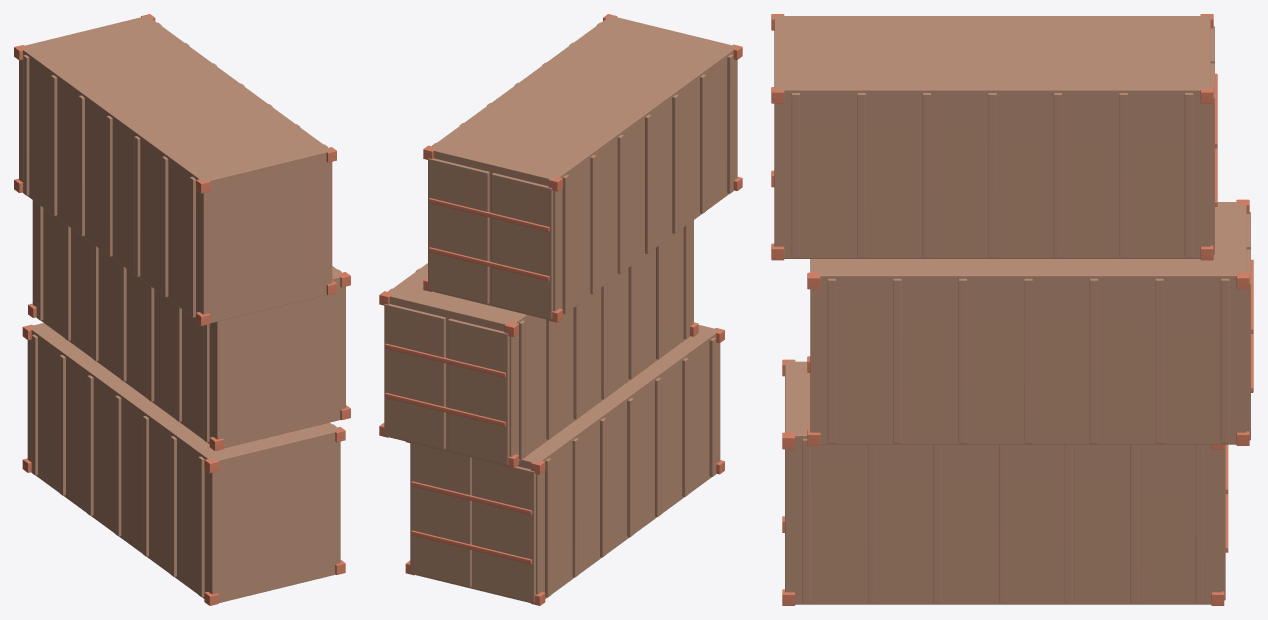
The model's file is container_stack3.glb.
3 renders of one model, left to right at view 1: azimuth 30°, elevation 25°; view 2: azimuth 150°, elevation 25°; view 3: azimuth 270°, elevation 25°, orthographic. The views are drawn at different scales.
Visible parts, largest first — view 1: container_stack3; view 2: container_stack3; view 3: container_stack3.
Boxes of the visible parts, x1,y1,x2,y2 form: container_stack3: (14,14,350,605); container_stack3: (379,14,742,605); container_stack3: (771,14,1253,605).
Bounding box in the file's own units: 3.13 × 7.77 × 6.69.
